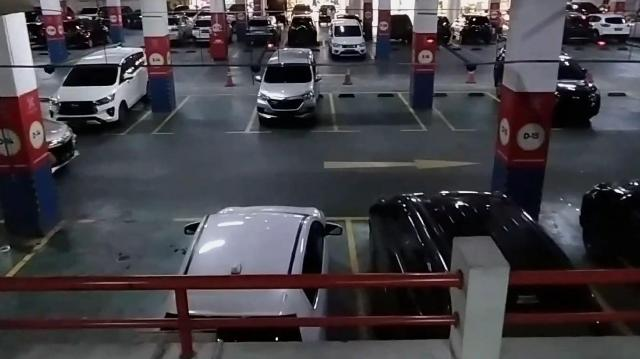empty: (10, 218, 184, 332), (152, 92, 258, 134), (329, 92, 427, 132), (434, 90, 498, 132)
occupied: (348, 204, 578, 338), (182, 210, 356, 336), (50, 57, 146, 136), (250, 51, 336, 135)
